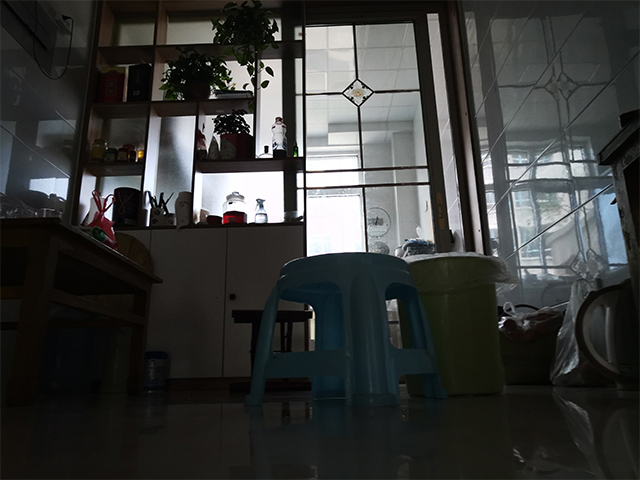cabinet: (165, 226, 295, 393)
stool: (241, 249, 448, 411)
table: (1, 214, 167, 408)
trashcan: (395, 251, 510, 399)
